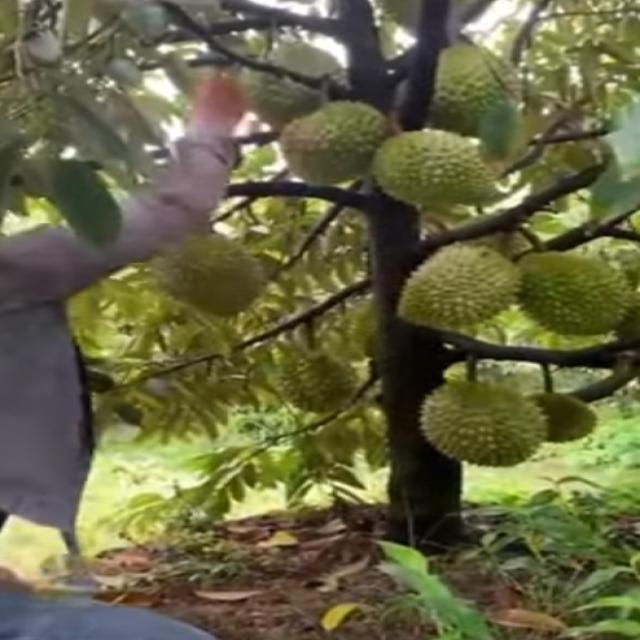immature: (137, 227, 275, 319), (418, 376, 549, 470), (397, 240, 521, 337), (504, 245, 634, 335), (373, 125, 505, 211), (422, 38, 520, 136), (287, 102, 392, 185)
